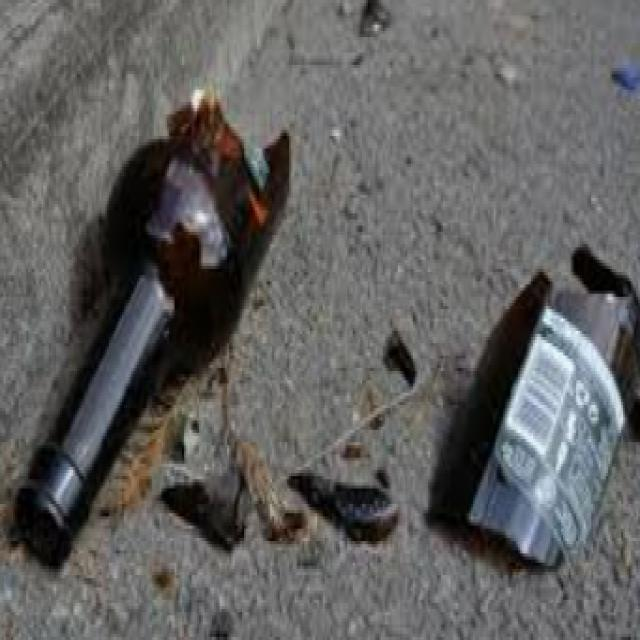PecahanKaca: (11, 83, 291, 566), (436, 237, 634, 566)
